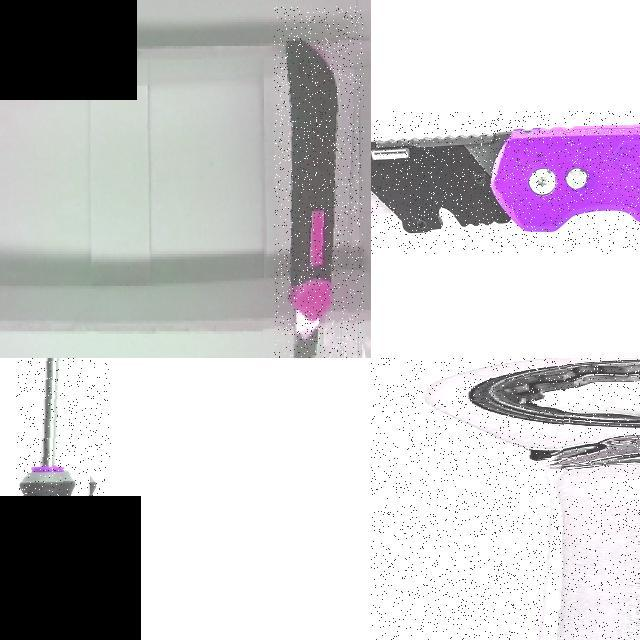estilete: (287, 40, 336, 356)
